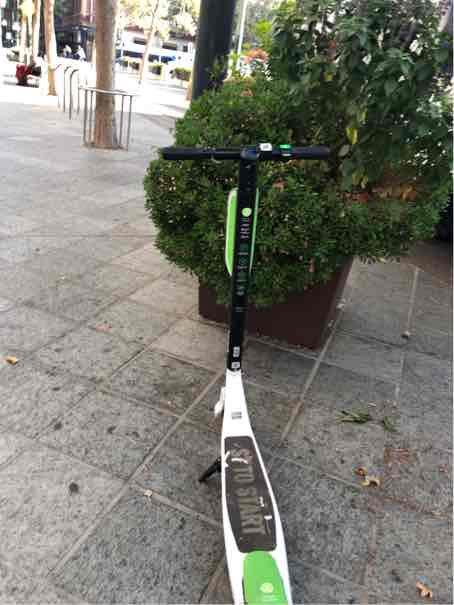scooter: (158, 146, 336, 593)
